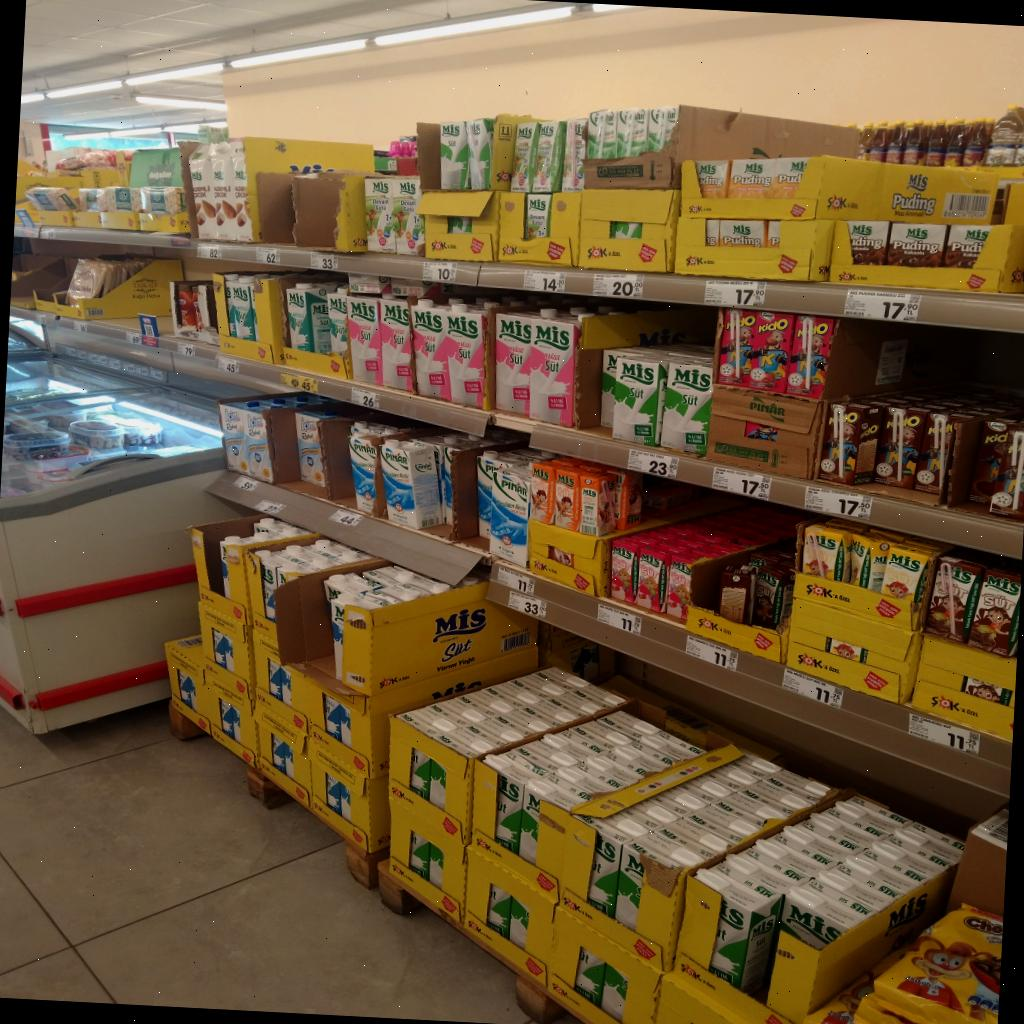price_tag: (908, 714, 980, 755), (844, 289, 921, 322), (782, 668, 844, 708), (805, 486, 872, 521), (713, 467, 771, 500), (686, 635, 738, 671), (705, 280, 765, 307), (628, 449, 678, 478), (594, 272, 644, 298), (599, 605, 641, 635), (508, 592, 546, 619), (497, 566, 534, 593), (524, 269, 565, 292), (422, 261, 458, 283), (281, 373, 317, 392), (351, 388, 380, 410), (329, 509, 363, 527), (310, 252, 339, 270), (255, 246, 281, 266), (253, 500, 285, 515), (216, 355, 239, 373), (197, 244, 223, 258), (234, 477, 259, 491)
product: (528, 309, 582, 426), (661, 346, 713, 456), (612, 352, 669, 447), (381, 440, 441, 529), (820, 403, 883, 487), (926, 556, 985, 644), (970, 420, 1024, 507), (969, 569, 1021, 656), (411, 299, 455, 401), (875, 405, 928, 489), (743, 312, 795, 392), (490, 465, 530, 567), (787, 316, 835, 398), (496, 313, 534, 415), (448, 307, 485, 407), (915, 409, 957, 495), (988, 423, 1024, 520), (379, 298, 415, 392), (295, 410, 338, 485), (880, 543, 932, 603), (717, 309, 756, 386), (350, 434, 386, 517), (851, 532, 901, 591), (347, 296, 380, 384), (752, 563, 794, 631), (886, 223, 947, 268), (802, 525, 851, 581), (287, 283, 326, 352), (531, 120, 567, 193), (392, 177, 424, 256), (636, 544, 672, 613), (554, 118, 587, 192), (237, 410, 271, 480), (600, 349, 629, 428), (477, 451, 503, 538), (610, 536, 643, 604), (365, 178, 395, 252), (718, 566, 755, 623), (579, 473, 613, 535), (944, 225, 991, 268), (465, 117, 493, 189), (221, 400, 248, 472), (441, 121, 469, 190), (728, 158, 776, 198), (848, 221, 890, 265), (512, 121, 538, 192), (226, 276, 255, 339), (530, 459, 556, 524), (768, 157, 809, 198), (554, 467, 580, 530), (616, 108, 648, 158), (667, 559, 692, 622), (646, 106, 678, 152), (327, 288, 348, 353), (695, 160, 729, 198), (600, 110, 621, 159), (587, 111, 604, 158)
